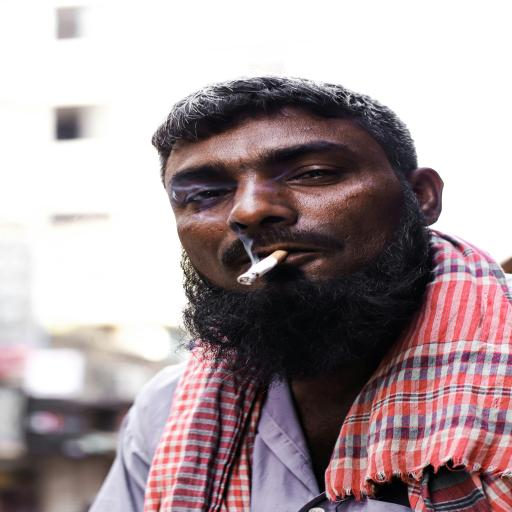terdeteksi merokok: (180, 156, 362, 306)
